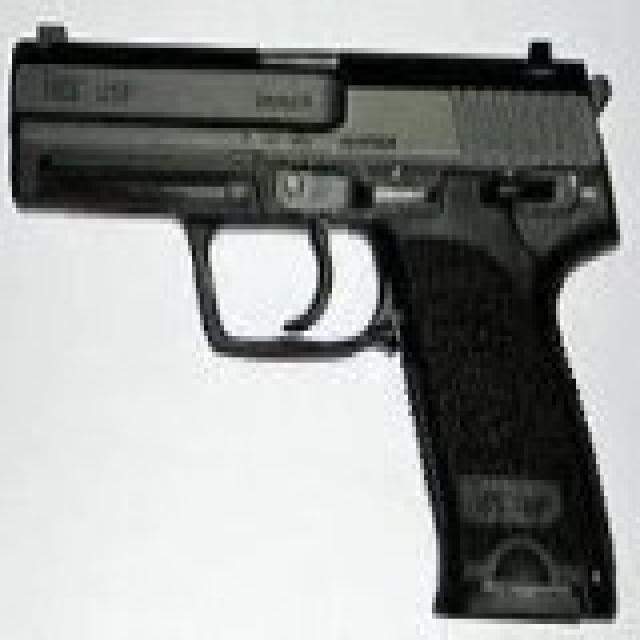Gun: (12, 11, 640, 624)
